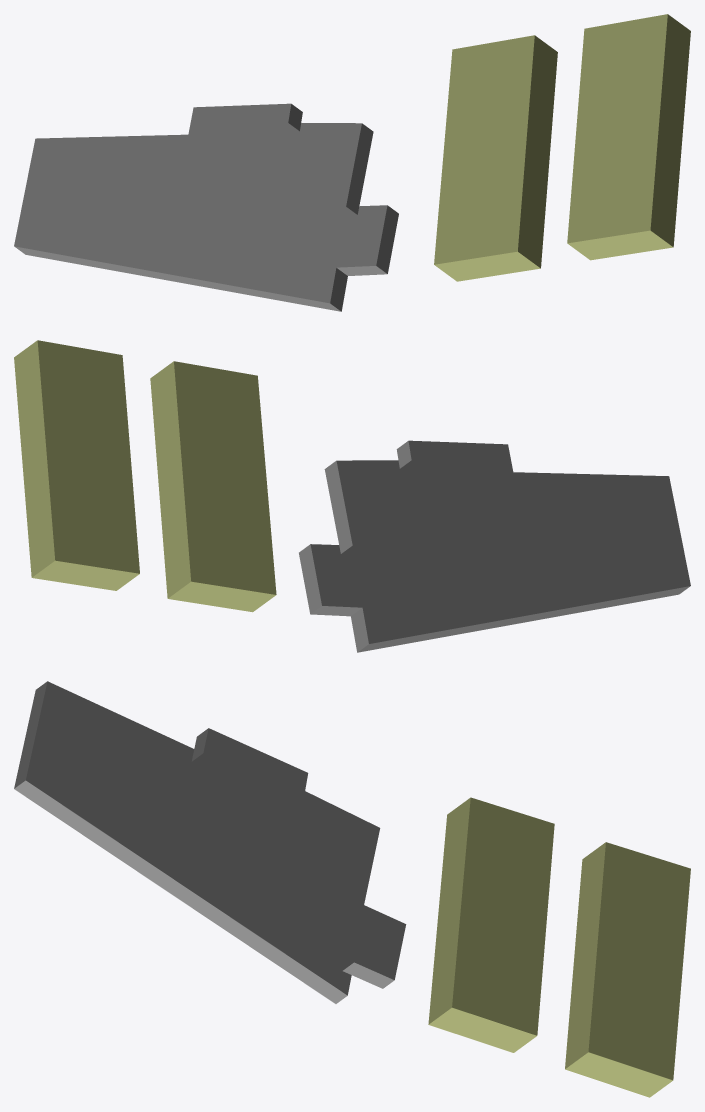
3 renders of one model, top to bottom at view 1: azimuth 30°, elevation 25°; view 2: azimuth 150°, elevation 25°; view 3: azimuth 330°, elevation 25°, orthographic.
Visible parts, largest first — view 1: 0_1_0_0_1_2_0_3; view 2: 0_1_0_0_1_2_0_3; view 3: 0_1_0_0_1_2_0_3.
Boxes of the visible parts, x1=… form: 0_1_0_0_1_2_0_3: x1=14, y1=14, x2=690, y2=311; 0_1_0_0_1_2_0_3: x1=14, y1=340, x2=690, y2=652; 0_1_0_0_1_2_0_3: x1=14, y1=681, x2=690, y2=1097.
Bounding box in the file's own units: 97.76 × 34.56 × 6.2.
